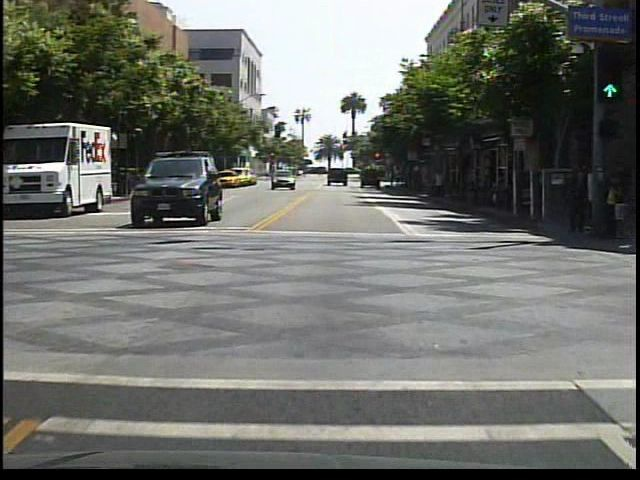person: (561, 158, 589, 238)
